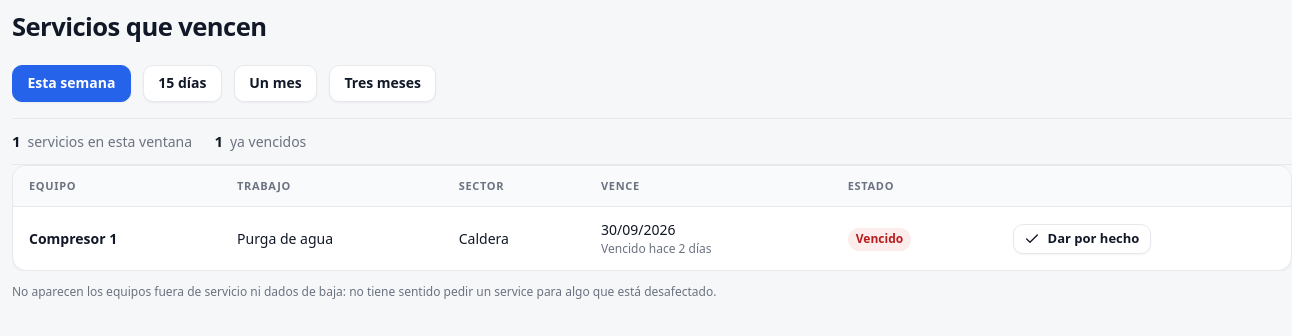
Test: Servicios — dar un service por hecho › REGRESION: si el service es de otro, avisa en vez de abrir algo que va a fallar
Click the button "Dar por hecho" at (1082, 239), box [1013,224,1151,254]
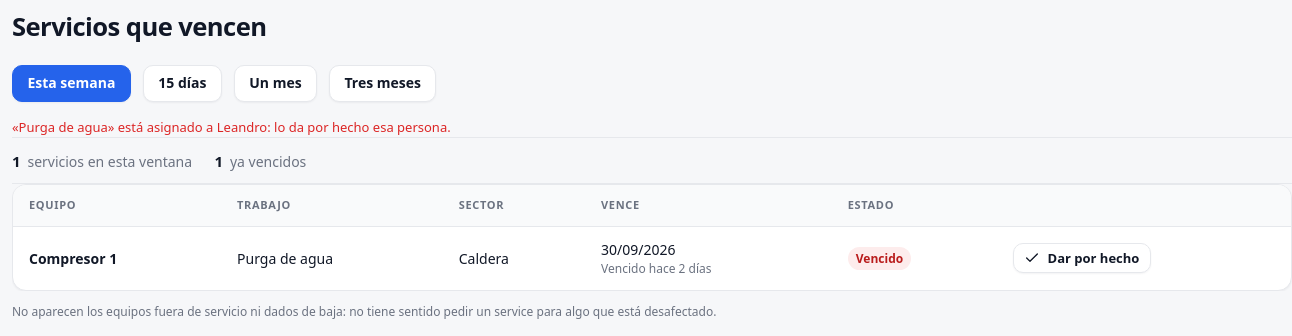
Result: the text "está asignado a Leandro" is shown at [12,118,451,136]
